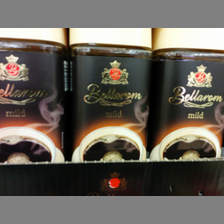coffee: (68, 27, 150, 160), (152, 28, 224, 159), (1, 28, 69, 161)
